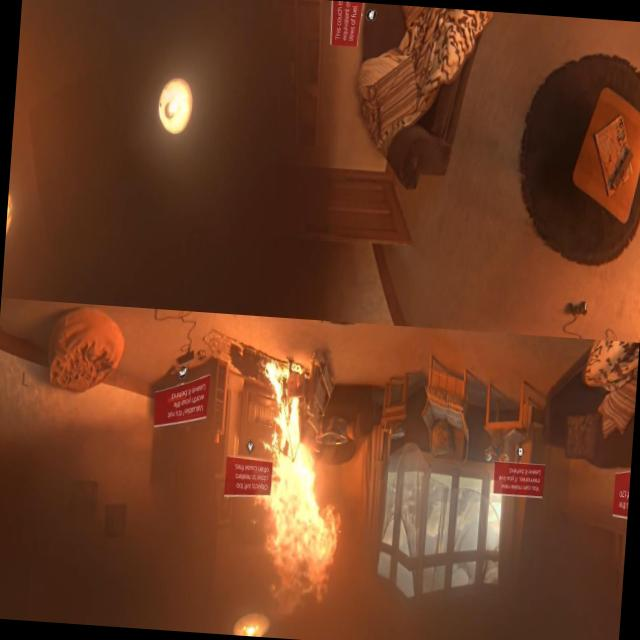fire: (246, 368, 347, 614)
